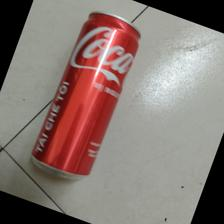Coca: (32, 9, 143, 184)
